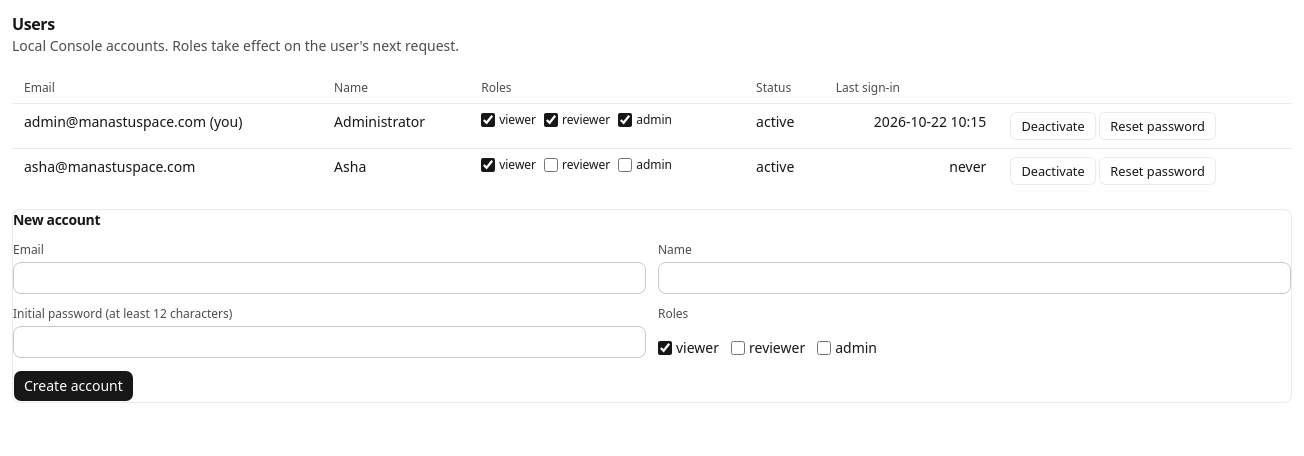
Test: UsersAdmin › shows the API refusal when the last admin would be removed
Expected: the text "asha@manastuspace.com" is shown, [12,149,322,193]
Click the button "Deactivate" in the row of "admin@manastuspace.com (you)": (1053, 126) [1010,112,1096,140]
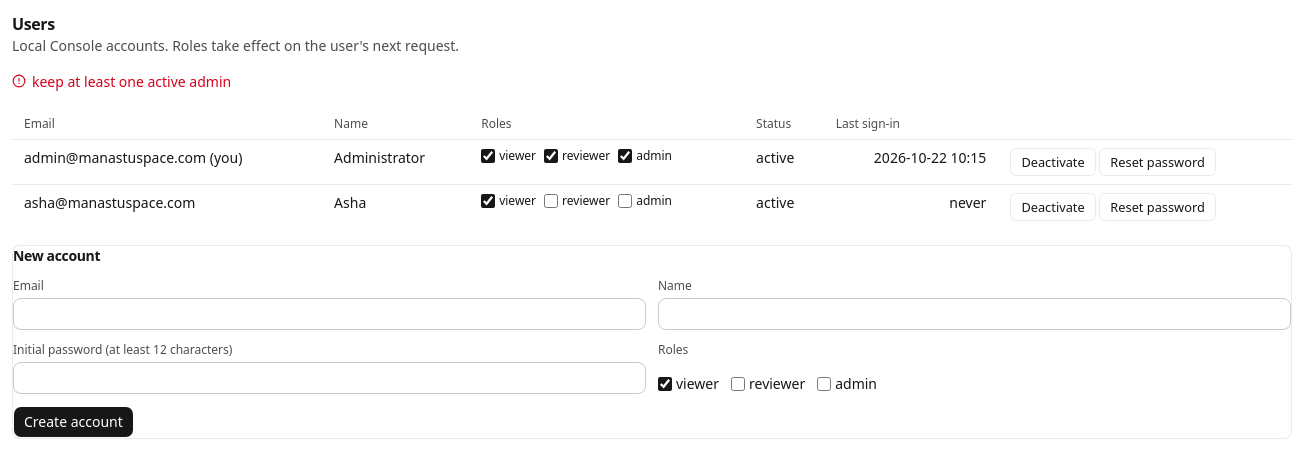
Result: the message reads "keep at least one active admin" at [32,72,231,91]
